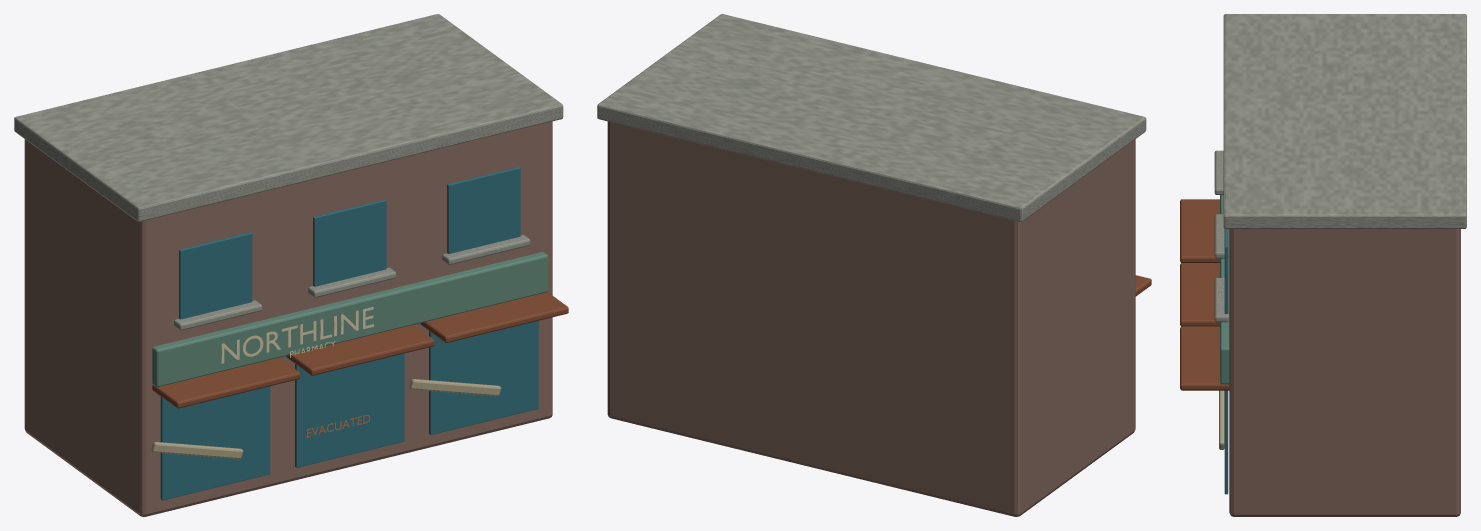
Rendered from shop.glb.
3 views of the same model, side by side, from view 1: azimuth 30°, elevation 25°; view 2: azimuth 150°, elevation 25°; view 3: azimuth 270°, elevation 25° (orthographic). The views are drawn at different scales.
Visible parts, largest first — view 1: RuinedShop; view 2: RuinedShop; view 3: RuinedShop.
Part boxes in pixels (x1,y1,x2,y2): RuinedShop: [14, 14, 568, 516]; RuinedShop: [597, 14, 1151, 516]; RuinedShop: [1180, 14, 1466, 516].
Size of the model in its own units: 8.25 by 5.84 by 4.95.
Materials: 8 (1 with a texture image).
